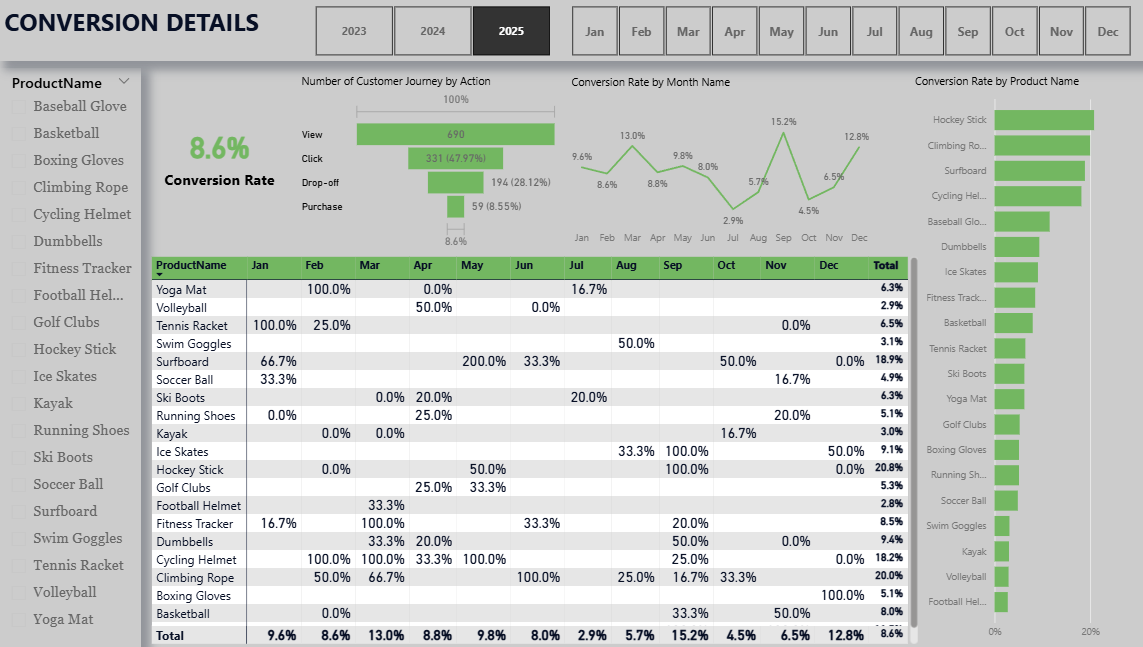

The page's visual inventory and layout, read from the dashboard file:
{"tool":"powerbi","page":{"name":"Conversion Details","canvas":[1280,720],"ordinal":1},"visuals":[{"type":"textbox","box":[0,0,1280,68],"z":0},{"type":"slicer","fields":{"Values":["dim_products.ProductName"]},"box":[0,75.6,156.7,645.6],"z":1000},{"type":"card","fields":{"Values":["_measure.Conversion Rate"]},"box":[163.8,82.7,160.7,178.1],"z":2000},{"type":"slicer","fields":{"Values":["Calendar.Date.Variation.Date Hierarchy.Year"]},"box":[325,0,310,68.3],"z":3000},{"type":"slicer","fields":{"Values":["Calendar.MonthNameShort"]},"box":[610,0,670,68.3],"z":4000},{"type":"lineChart","title":"Conversion Rate by Month Name","fields":{"Y":["_measure.Conversion Rate"],"Category":["Calendar.MonthNameShort"]},"box":[629.9,82.7,340.4,197.2],"z":5000},{"type":"clusteredBarChart","title":"Conversion Rate by Product Name","fields":{"Category":["dim_products.ProductName"],"Y":["_measure.Conversion Rate"]},"box":[1011.7,81.7,268.3,636.7],"z":6000},{"type":"pivotTable","fields":{"Values":["_measure.Conversion Rate"],"Rows":["dim_products.ProductName"],"Columns":["Calendar.MonthNameShort"]},"box":[163.3,280,861.7,440],"z":7000},{"type":"funnel","fields":{"Y":["_measure.Number of Customer Journey"],"Category":["fact_customer_journey.Action"]},"box":[329.3,81.1,295.9,198.8],"z":8000}]}

Visuals, with their boxes in screenshot pixels (x1, y1, x2, y2), scaled from the page's 1280x720 canvas onto the 1143x647 screenshot:
textbox: (0, 0, 1142, 61)
slicer - dim_products.ProductName: (0, 68, 140, 646)
card - _measure.Conversion Rate: (146, 74, 290, 234)
slicer - Calendar.Date.Variation.Date Hierarchy.Year: (290, 0, 567, 61)
slicer - Calendar.MonthNameShort: (545, 0, 1142, 61)
"Conversion Rate by Month Name" lineChart: (562, 74, 866, 252)
"Conversion Rate by Product Name" clusteredBarChart: (903, 73, 1142, 646)
pivotTable - _measure.Conversion Rate x dim_products.ProductName: (146, 252, 915, 646)
funnel - _measure.Number of Customer Journey x fact_customer_journey.Action: (294, 73, 558, 252)
